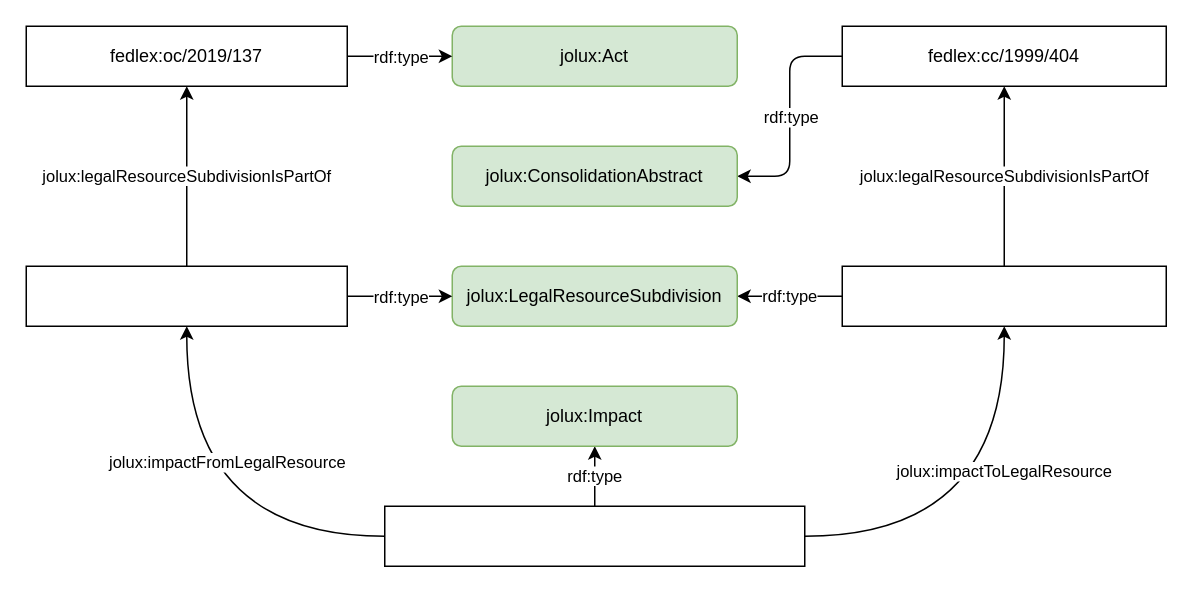
This 1193x593 diagram has some shape labels left out. The shapes that lost their labels are listed below. From the top down, each one's centre as x and y in pixels, then its label:
At [186,295]: "fedlex:oc/2019/137/text".
At [1003,295]: "fedlex:cc/1999/404/text".
At [594,535]: "fedlex:cc/1999/404/impact/226".
